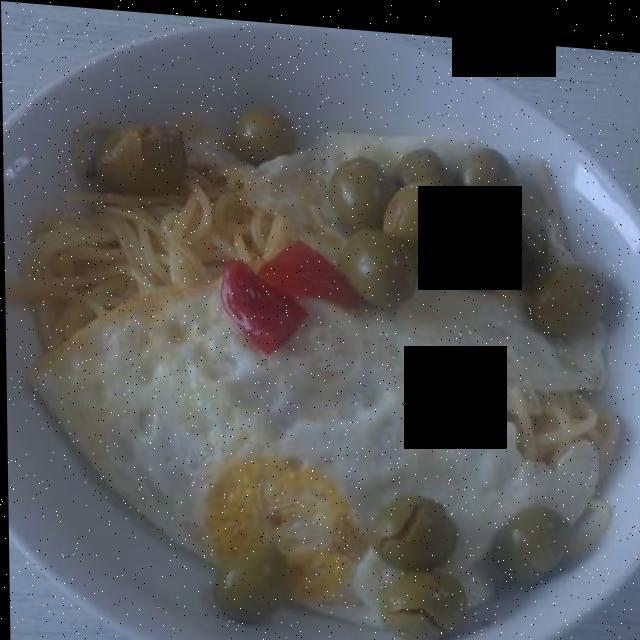egg: (31, 117, 599, 608)
pasta: (22, 135, 632, 473)
